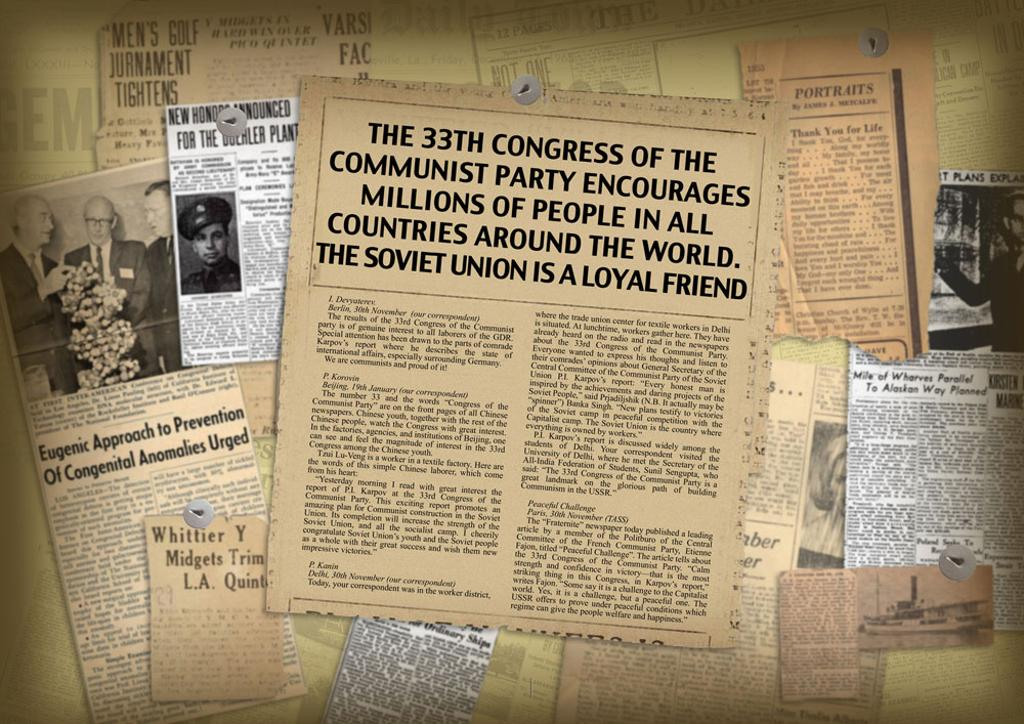face: (143, 190, 170, 236), (194, 223, 225, 263), (26, 199, 54, 243), (85, 204, 112, 244), (1010, 196, 1024, 240)
